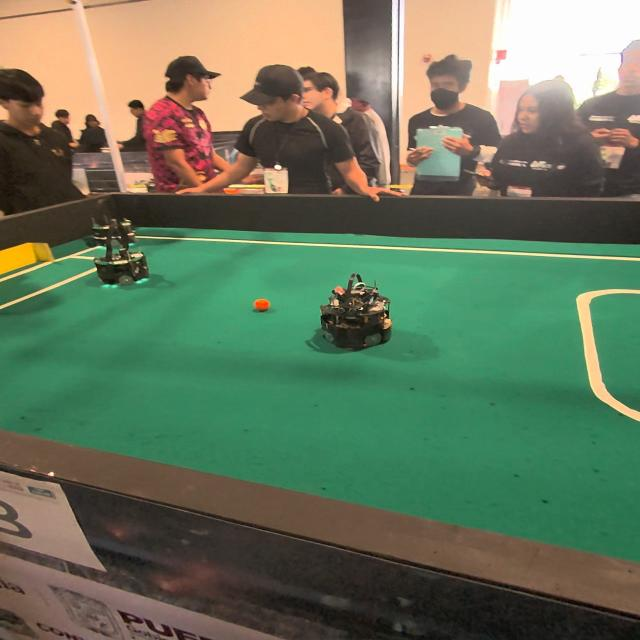Robot: (315, 278, 397, 360), (87, 205, 150, 298)
pelota: (252, 297, 271, 311)
